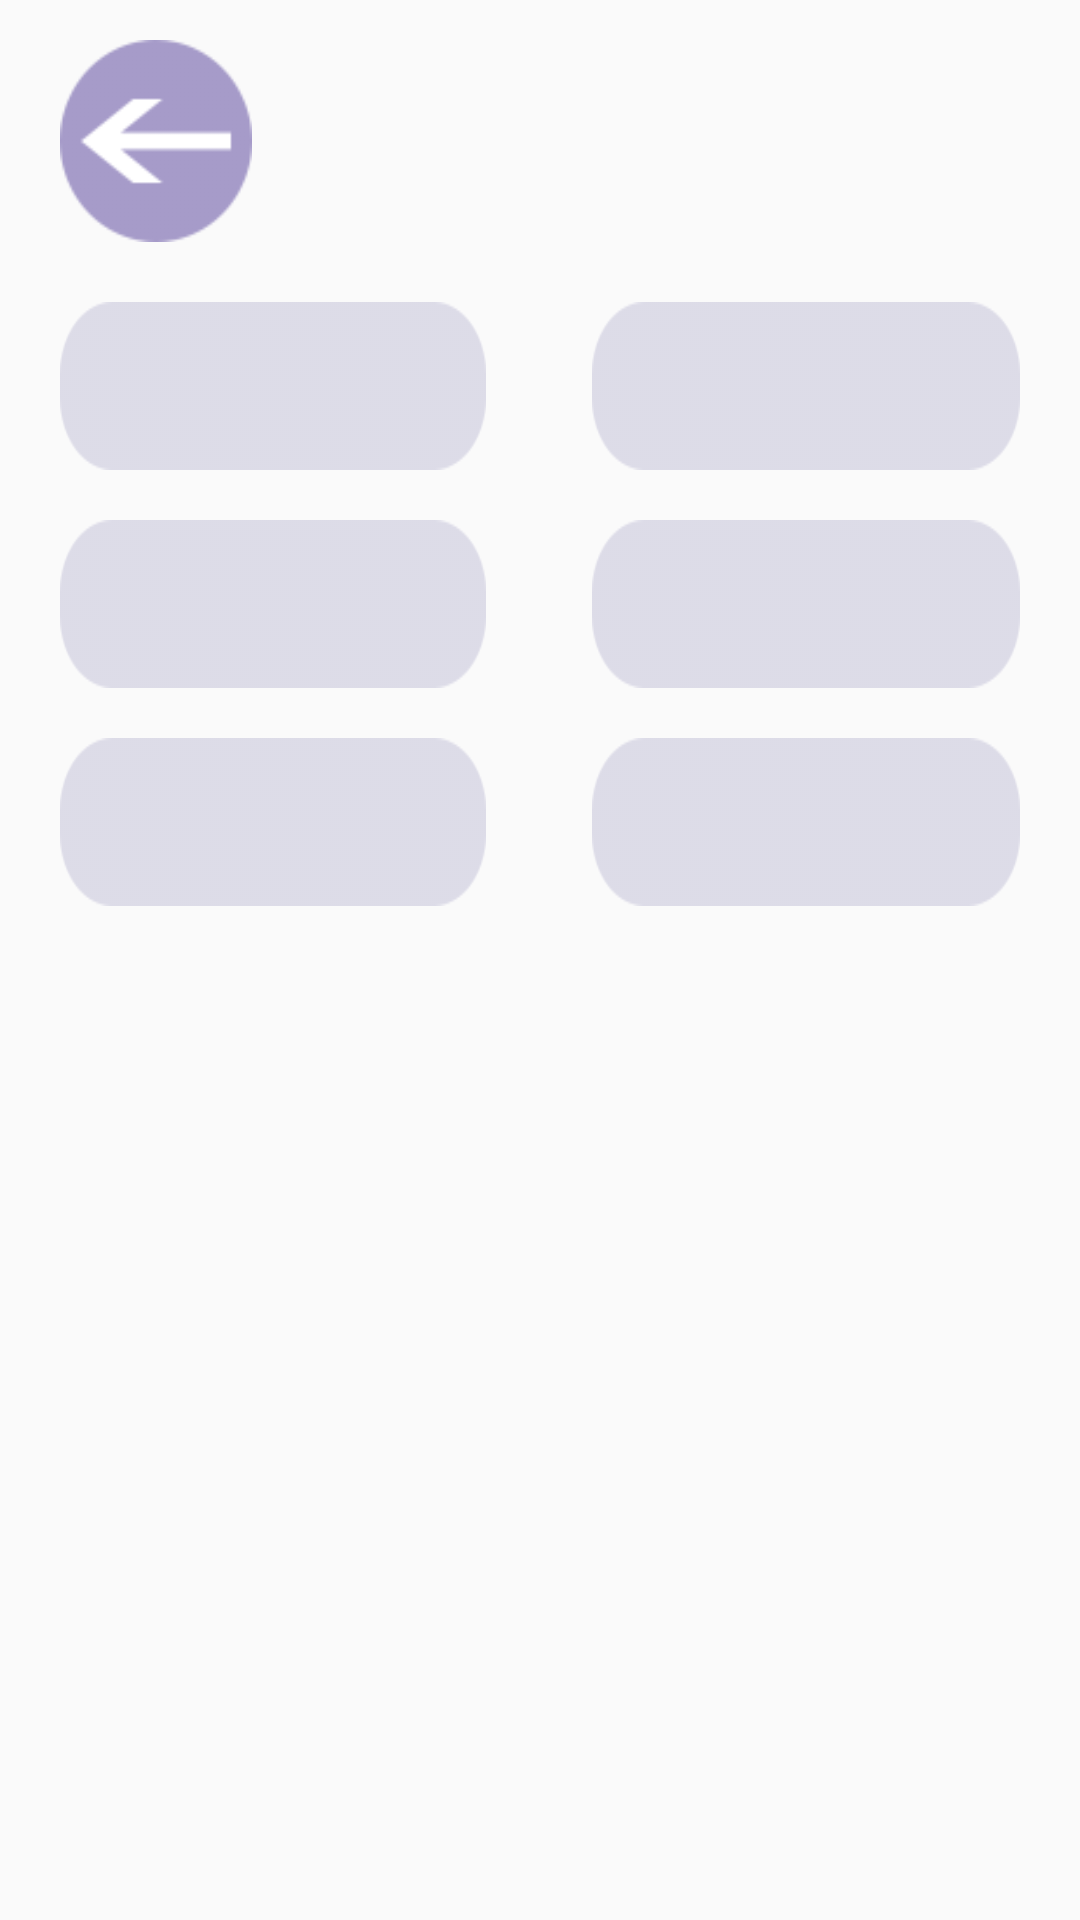

Named icons in this screenshot (1080 x 1920) and their bounding boxes, (x1, y1, x2, y2):
back but: (60, 40, 252, 242)
